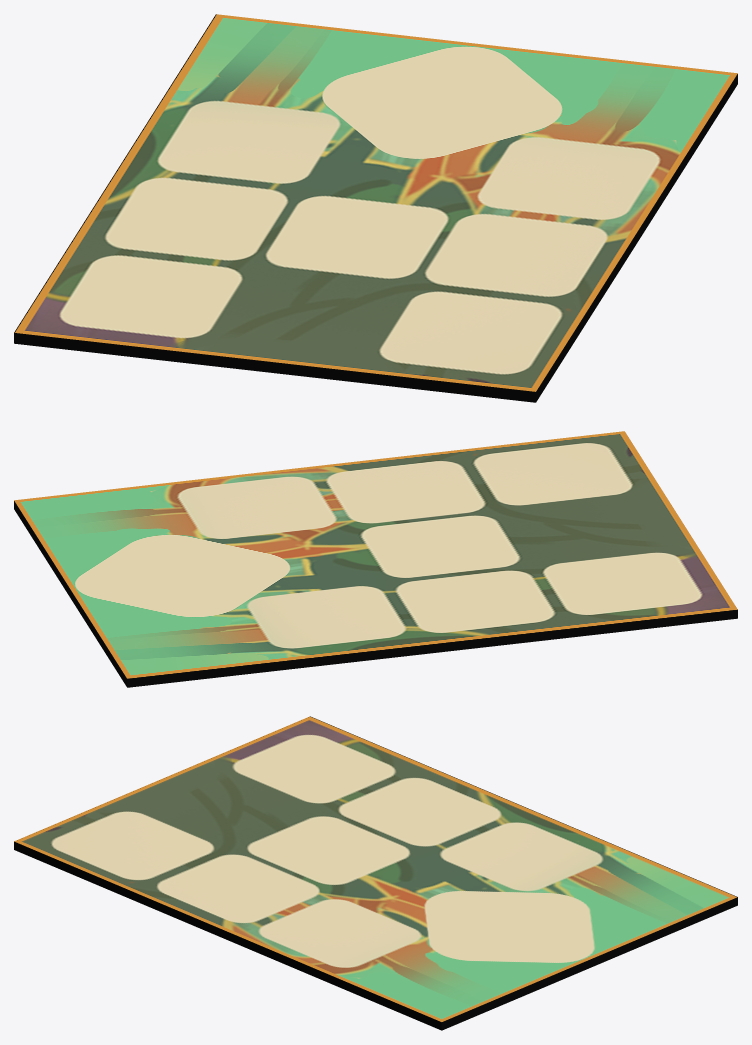
File: sigil_slot_4.glb
3 renders of one model, top to bottom at view 1: azimuth 30°, elevation 25°; view 2: azimuth 150°, elevation 25°; view 3: azimuth 270°, elevation 25°, orthographic. The views are drawn at different scales.
Visible parts, largest first — view 1: Sigil_slot_4; view 2: Sigil_slot_4; view 3: Sigil_slot_4.
Boxes of the visible parts, x1,y1,x2,y2 form: Sigil_slot_4: (14, 14, 737, 402); Sigil_slot_4: (14, 431, 737, 687); Sigil_slot_4: (14, 716, 737, 1030).
Size of the model in its own units: 4.34 by 0.0557 by 4.34.
Materials: 1 (1 with a texture image).
